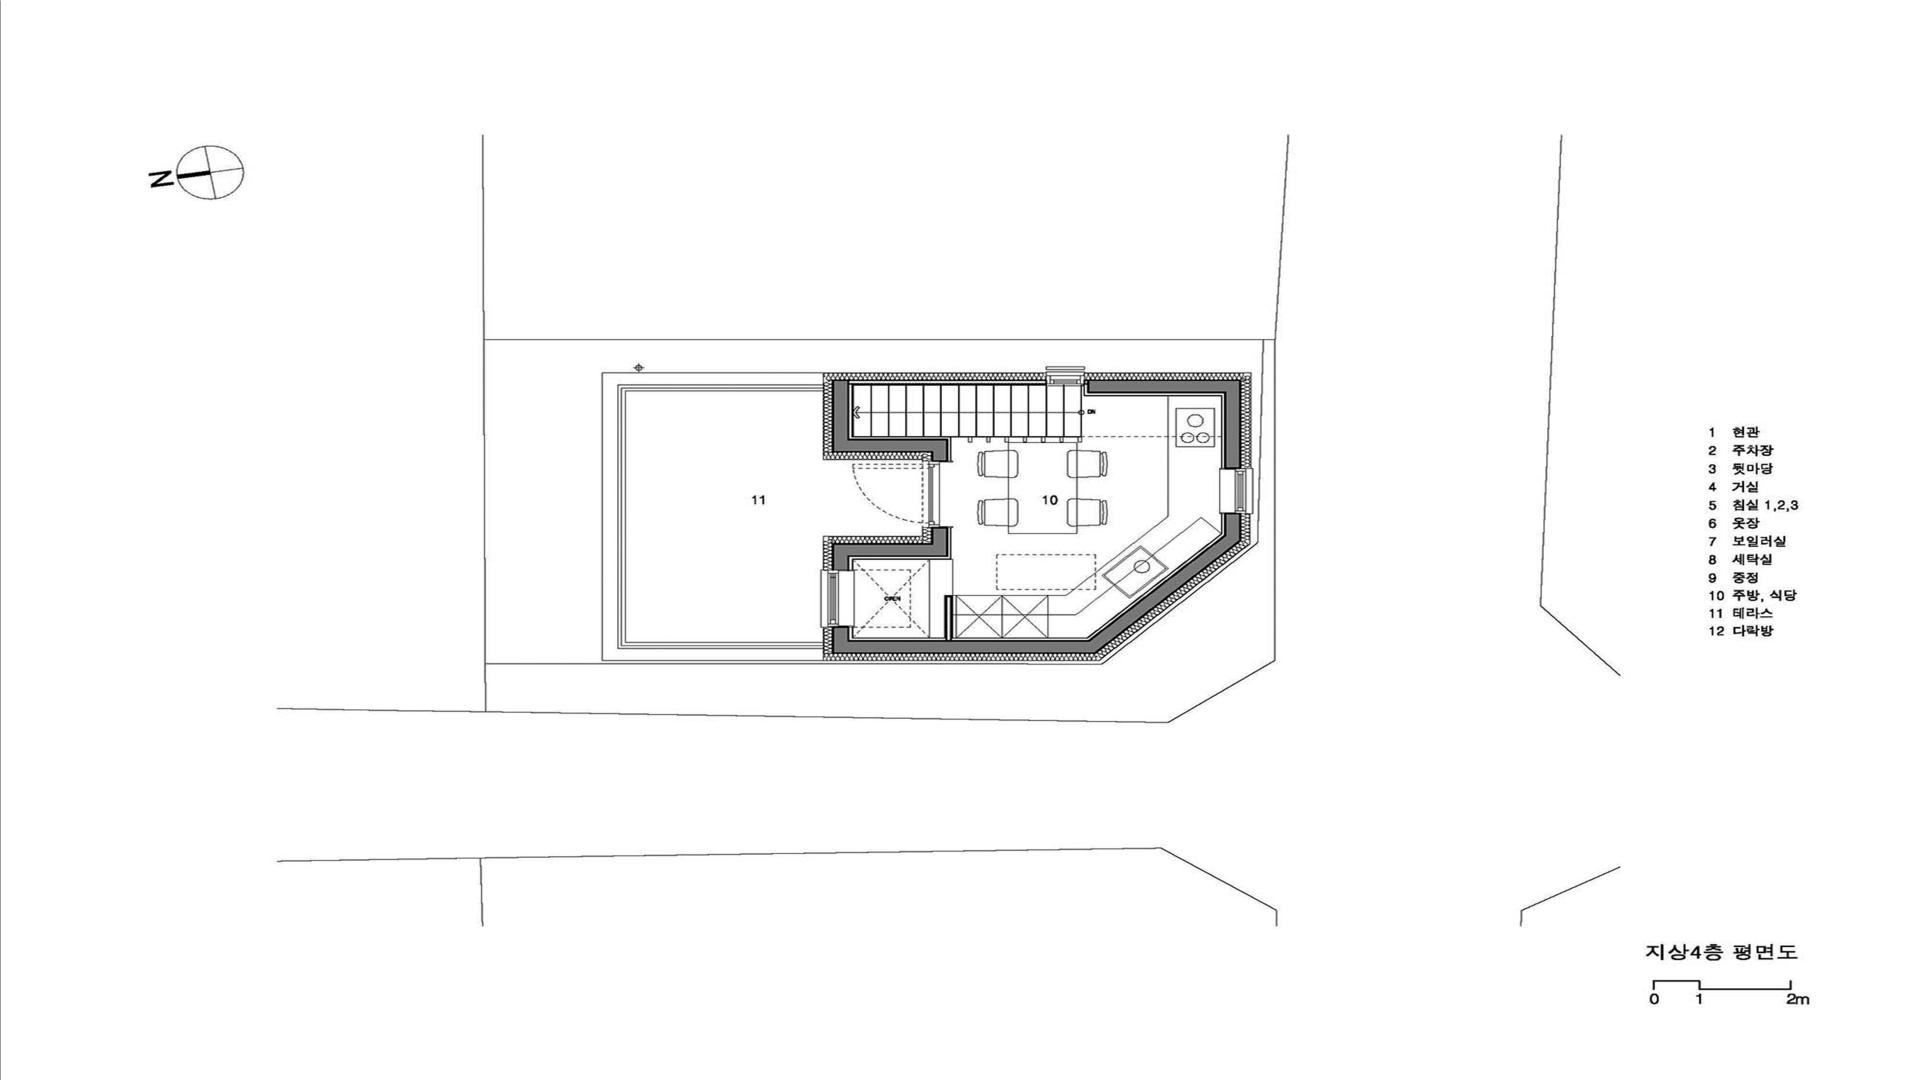background: (1, 0, 1920, 1080)
door: (853, 462, 939, 527)
wall: (1088, 534, 1241, 654), (849, 640, 1095, 654), (1088, 380, 1225, 394), (832, 438, 932, 452), (1225, 380, 1241, 469), (849, 543, 948, 556), (831, 380, 849, 438), (849, 380, 1047, 385), (1224, 513, 1241, 542), (832, 626, 849, 654), (832, 543, 849, 571), (944, 596, 953, 641), (931, 439, 948, 462), (931, 527, 948, 545)
window: (822, 570, 855, 628), (1220, 468, 1254, 513), (1047, 372, 1085, 386)
